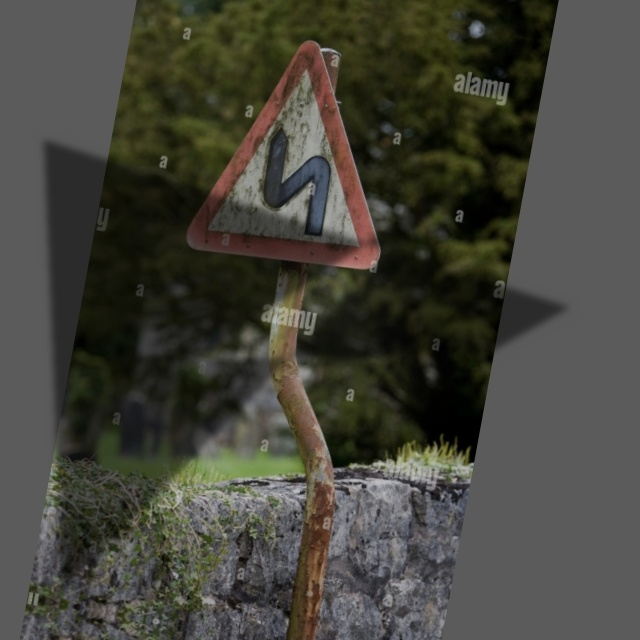Left_Reverse_Bend: (183, 24, 419, 280)
